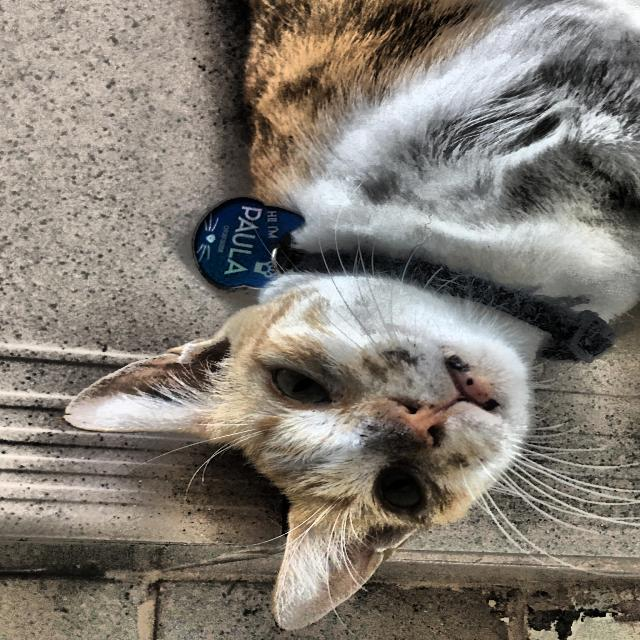Healthy skin: (156, 298, 526, 622), (358, 18, 599, 197)
